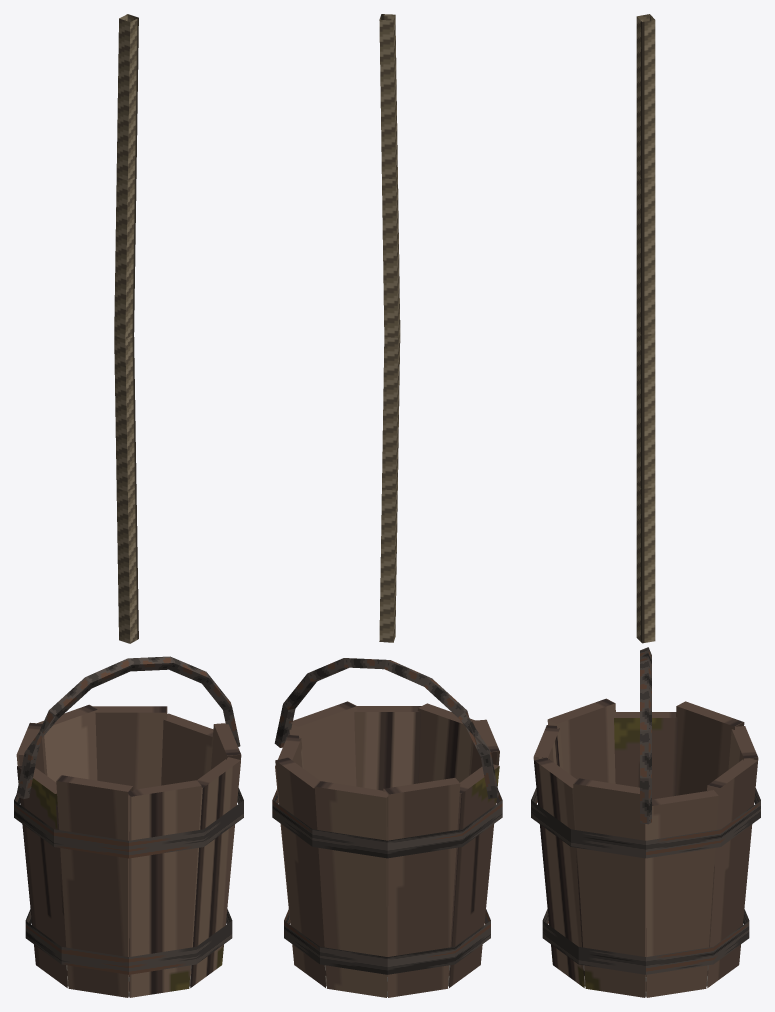
Rendered from SM_SW18_WellSweepBucket.fbx.
The picture shows the model from 3 angles, left to right: view 1: azimuth 30°, elevation 25°; view 2: azimuth 150°, elevation 25°; view 3: azimuth 270°, elevation 25°; orthographic projection.
Visible parts, largest first — view 1: SW18a_Bucket_Planks, SW18a_Bucket_Props; view 2: SW18a_Bucket_Planks, SW18a_Bucket_Props; view 3: SW18a_Bucket_Planks, SW18a_Bucket_Props.
Part boxes in pixels (<box>): SW18a_Bucket_Planks: <box>16,704,241,997</box>; SW18a_Bucket_Props: <box>14,14,243,996</box>; SW18a_Bucket_Planks: <box>275,701,499,997</box>; SW18a_Bucket_Props: <box>272,14,502,996</box>; SW18a_Bucket_Planks: <box>533,698,758,997</box>; SW18a_Bucket_Props: <box>531,14,760,996</box>.
Size of the model in its own units: 0.4616 by 1.86 by 0.4122.
